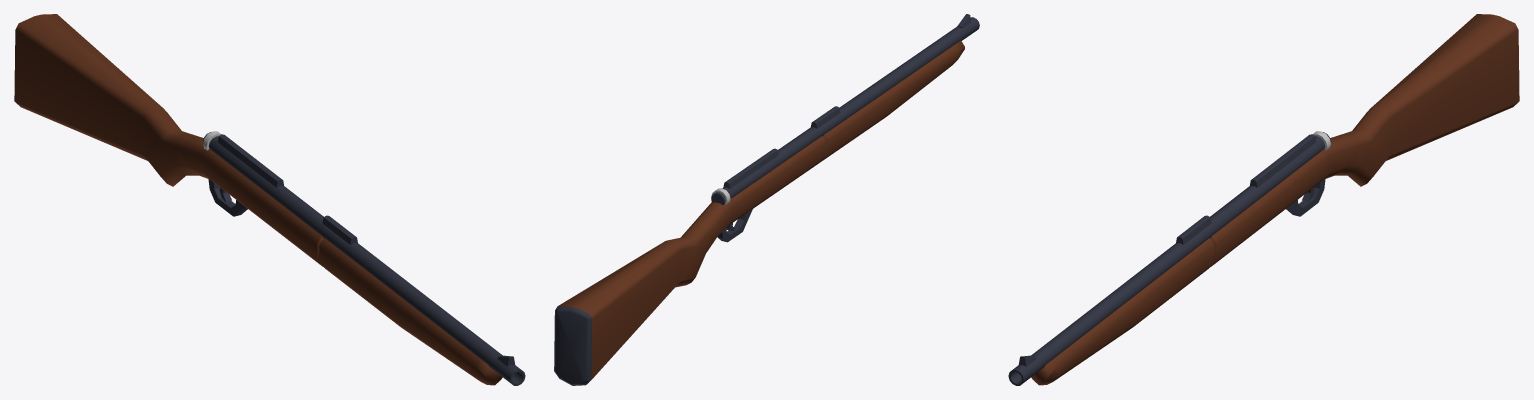
Rendered from rifle.glb.
The picture shows the model from 3 angles, left to right: view 1: azimuth 30°, elevation 25°; view 2: azimuth 150°, elevation 25°; view 3: azimuth 330°, elevation 25°; orthographic projection. The views are drawn at different scales.
Visible parts, largest first — view 1: rifle; view 2: rifle; view 3: rifle.
Boxes of the visible parts, box(x1,y1,x2,y2) form: rifle: box(14, 14, 525, 385); rifle: box(554, 14, 979, 385); rifle: box(1008, 14, 1519, 385).
Bounding box in the file's own units: 0.1552 × 0.3615 × 2.91.
